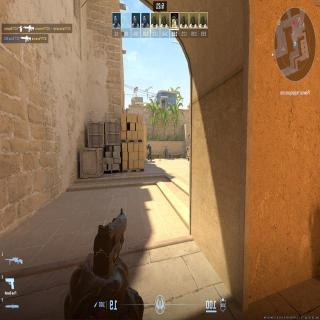CT-Body: (145, 141, 153, 165)
CT-Head: (147, 141, 151, 149)
